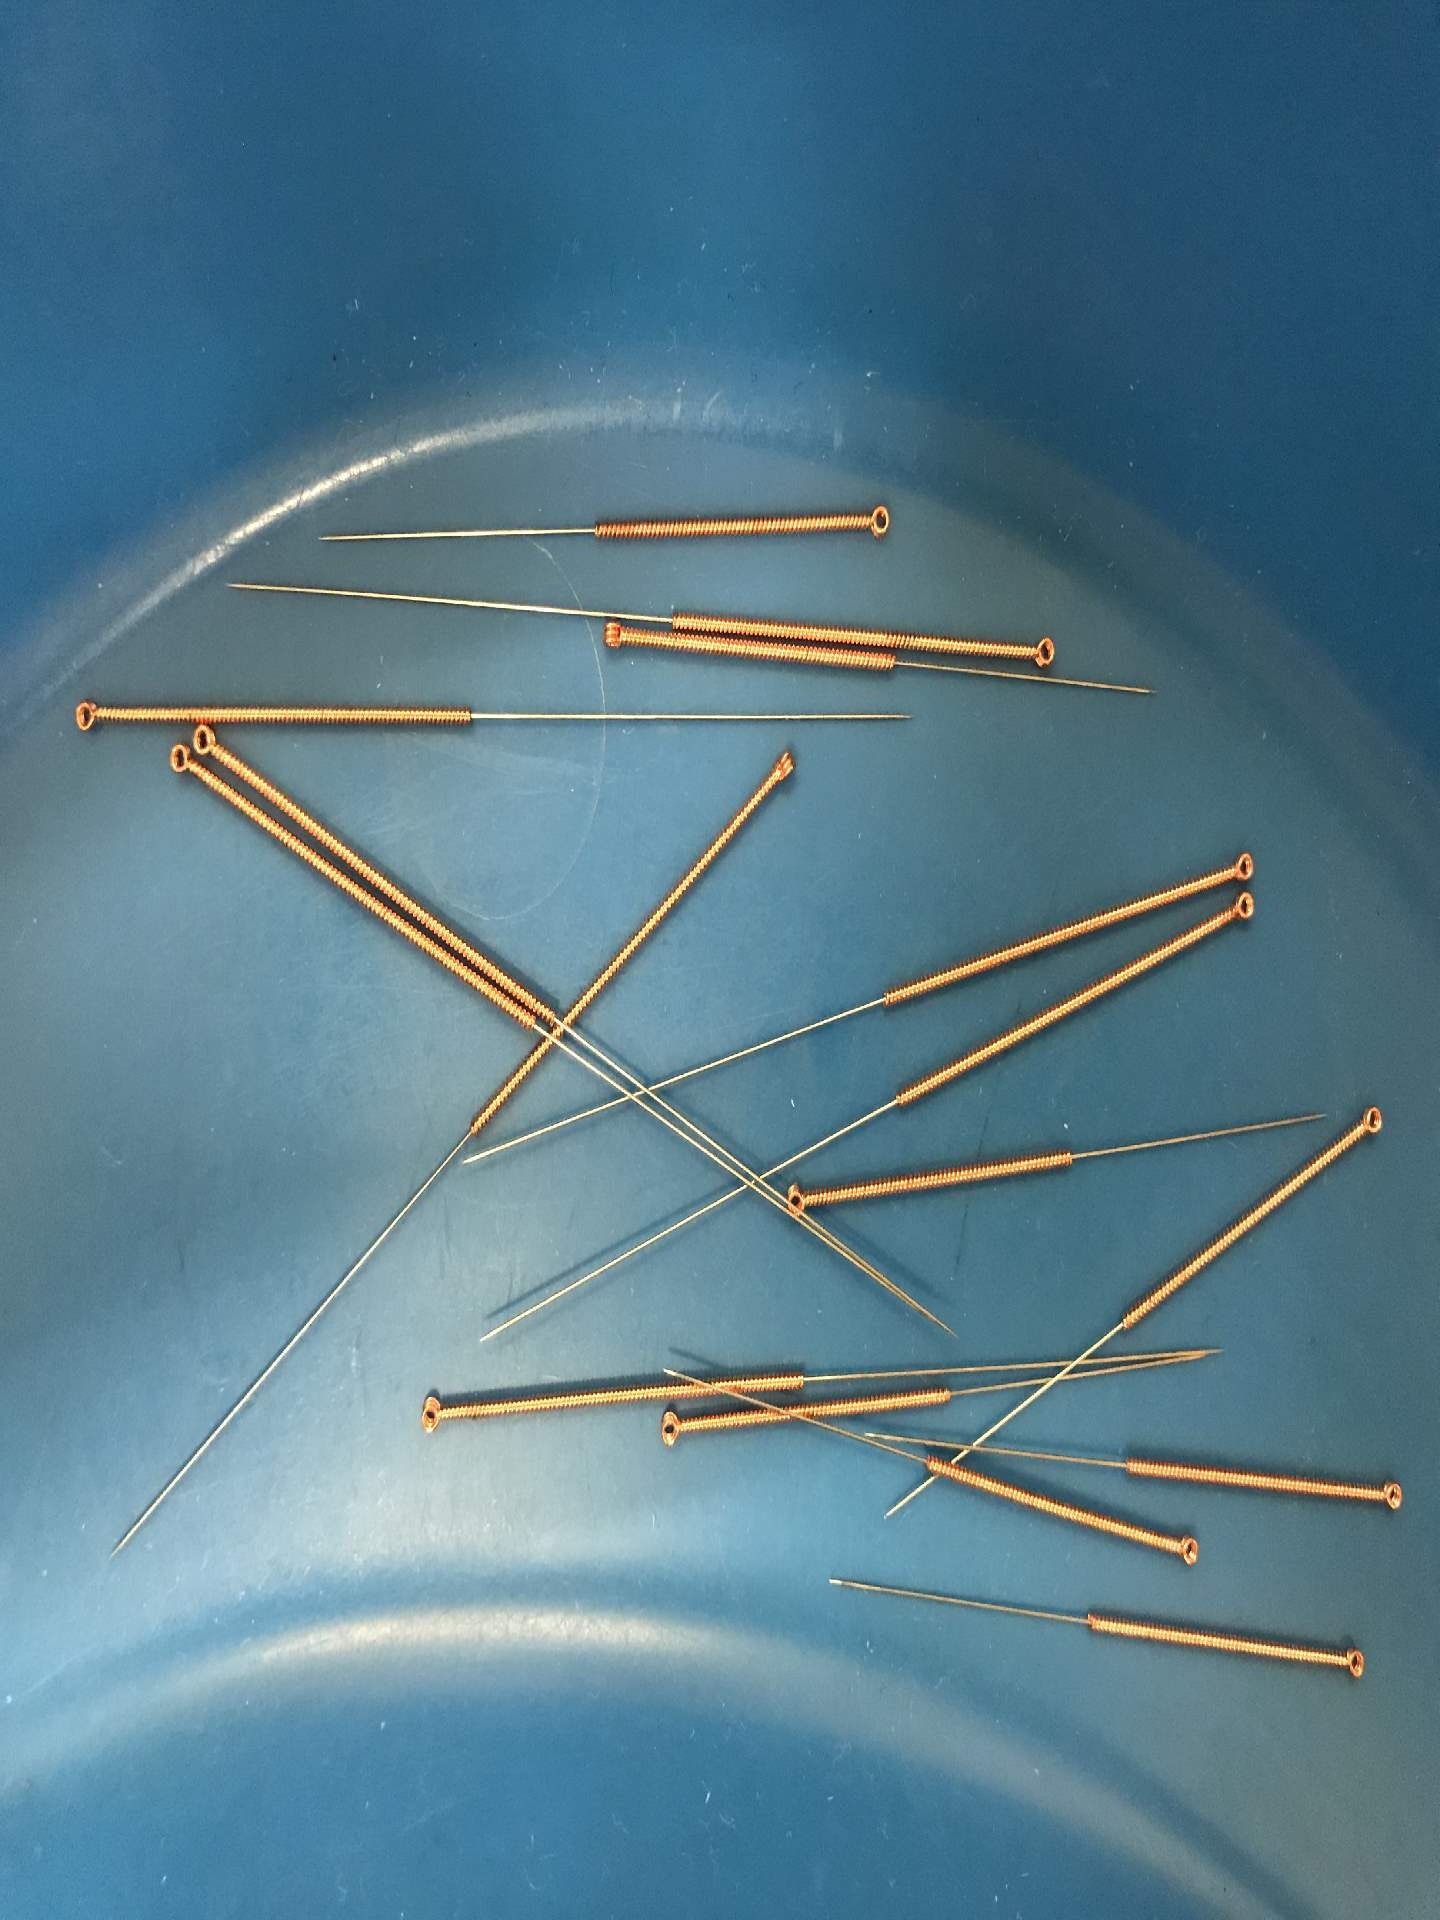needle: (752, 735, 809, 804), (843, 491, 906, 553), (1321, 1633, 1381, 1692), (404, 1386, 460, 1445), (643, 1401, 700, 1457), (1159, 1522, 1215, 1580), (1358, 1468, 1417, 1522), (57, 686, 113, 742), (1345, 1092, 1395, 1154), (1013, 624, 1069, 677), (771, 1175, 827, 1226), (1210, 844, 1265, 890), (584, 615, 638, 661), (154, 736, 195, 791), (1215, 884, 1263, 928), (188, 718, 230, 763)
